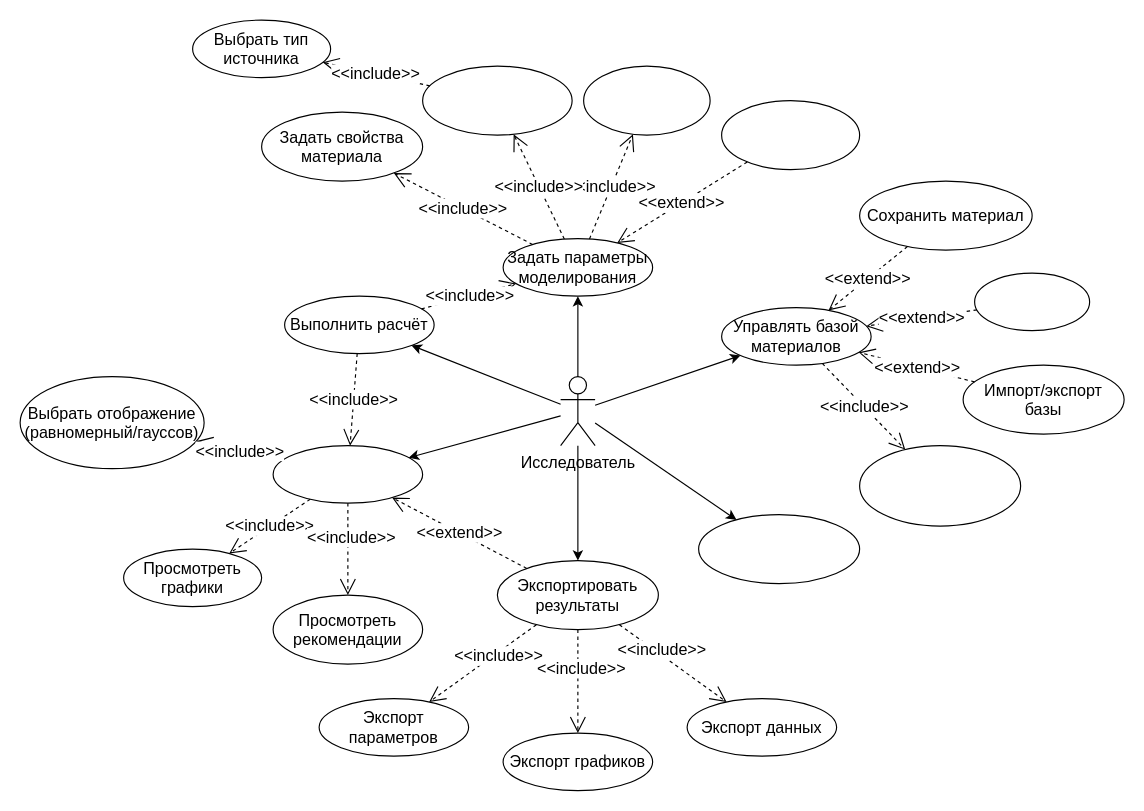
The diagram is 1144 pixels wide and 811 high, and some of its shapes have lost their labels. The box of each missing label's shape, as (x1, y1, x2, y2) in pixels:
Выбрать материал из базы: (858, 444, 1021, 526)
Задать граничные условия: (582, 65, 710, 135)
Настроить параметры источника: (421, 65, 572, 135)
Переключить тему: (697, 513, 860, 584)
Просмотреть результаты: (272, 444, 423, 503)
Сбросить параметры: (720, 99, 860, 170)
Удалить материал: (973, 272, 1090, 331)
